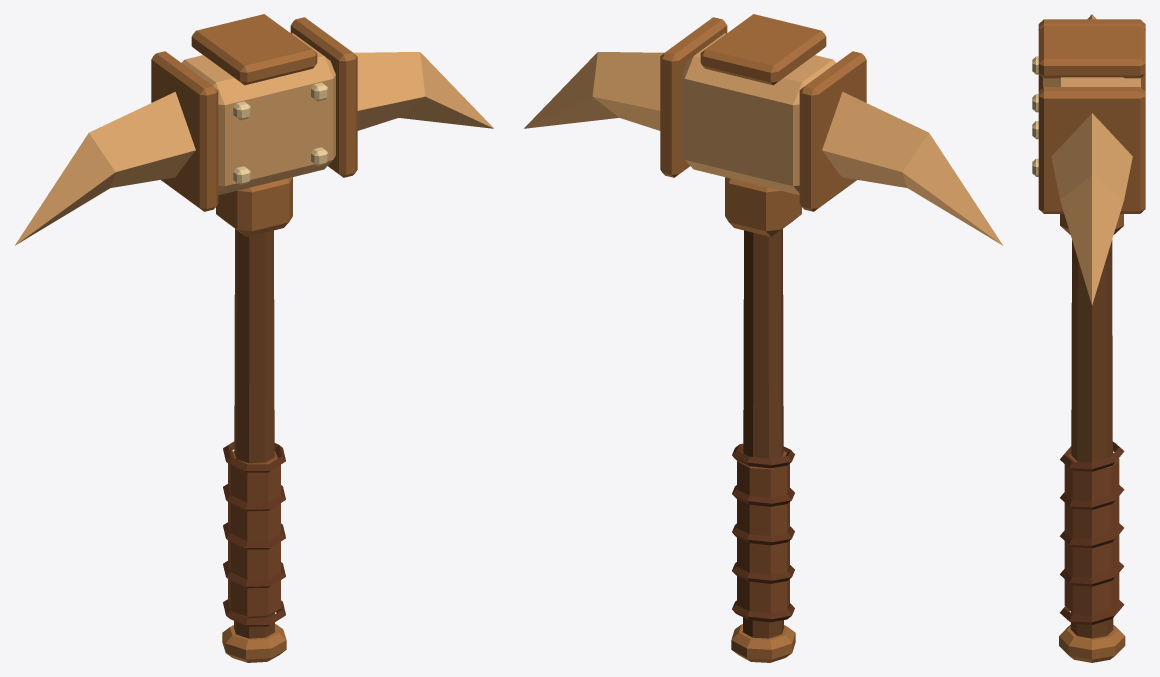
File: WoodHeavyPickaxe.fbx
3 renders of one model, left to right at view 1: azimuth 30°, elevation 25°; view 2: azimuth 150°, elevation 25°; view 3: azimuth 270°, elevation 25°, orthographic.
Parts seen in each view (by area): view 1: WoodHeavyPickaxe; view 2: WoodHeavyPickaxe; view 3: WoodHeavyPickaxe.
Boxes of the visible parts, left/top/right/bottom form: WoodHeavyPickaxe: left=15, top=14, right=493, bottom=662; WoodHeavyPickaxe: left=524, top=14, right=1002, bottom=662; WoodHeavyPickaxe: left=1032, top=14, right=1145, bottom=662.
Size of the model in its own units: 3.1 by 3.78 by 0.635.
1 material, 1 textured.
